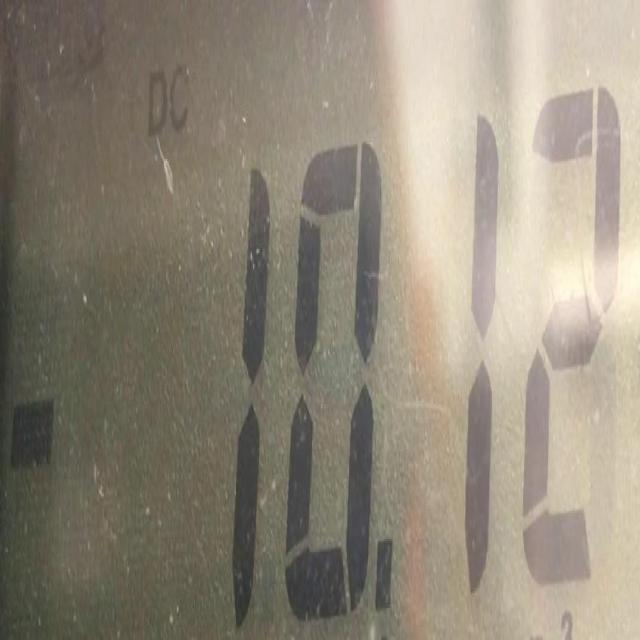.: (9, 394, 55, 468), (374, 536, 393, 612)
0: (284, 135, 386, 618)
1: (231, 166, 271, 632), (466, 110, 500, 597)
2: (518, 82, 621, 609)
